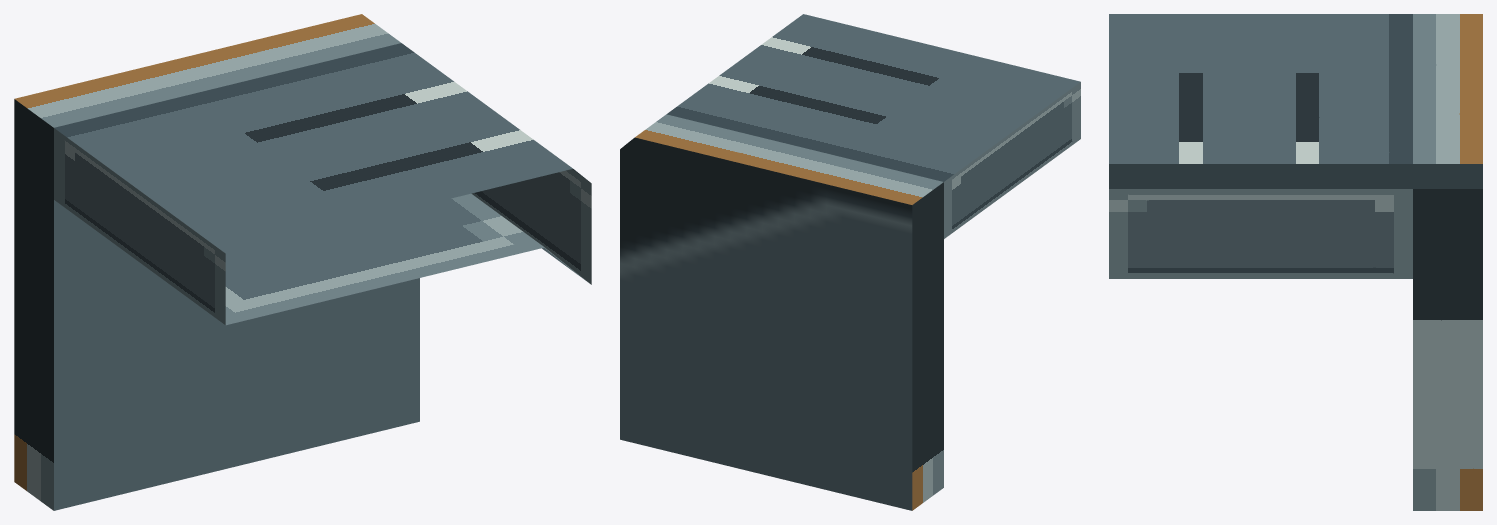
File: casing_d7_front_x1_y3.obj
The picture shows the model from 3 angles, left to right: view 1: azimuth 30°, elevation 25°; view 2: azimuth 150°, elevation 25°; view 3: azimuth 270°, elevation 25°; orthographic projection. The views are drawn at different scales.
Parts seen in each view (by area): view 1: d7_front_x1_y3; view 2: d7_front_x1_y3; view 3: d7_front_x1_y3.
Boxes of the visible parts, x1=… form: d7_front_x1_y3: x1=14, y1=14, x2=591, y2=510; d7_front_x1_y3: x1=620, y1=14, x2=1080, y2=510; d7_front_x1_y3: x1=1109, y1=14, x2=1482, y2=510.
Bounding box in the file's own units: 1 × 1 × 1.
